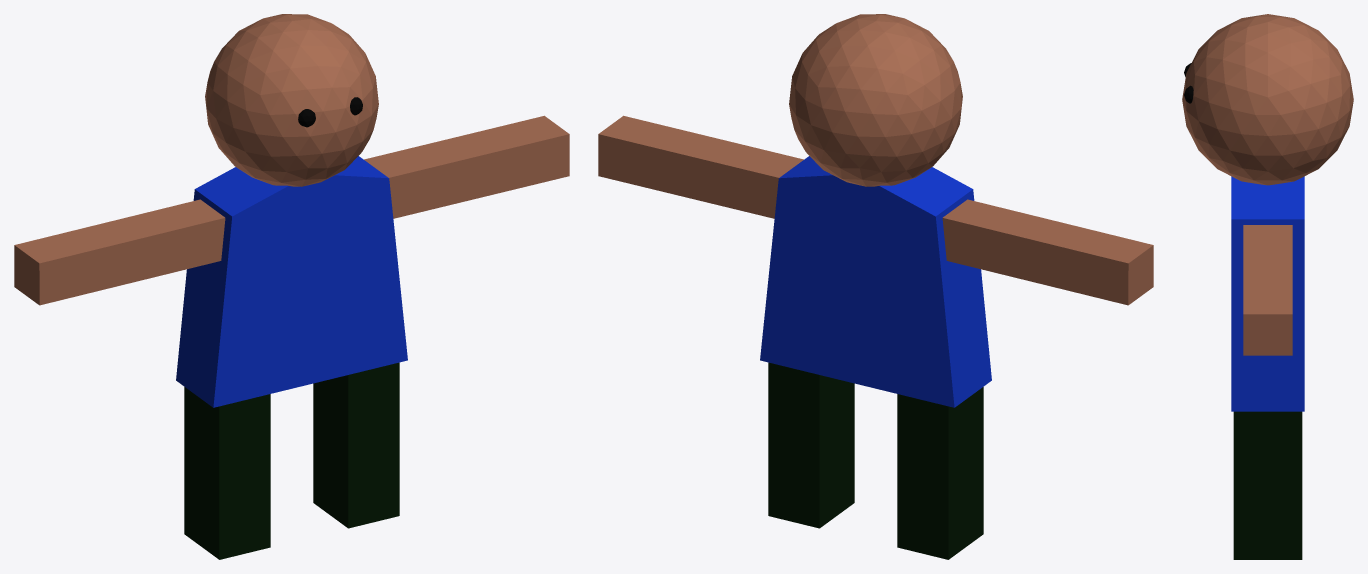
The model's file is Player.obj.
3 views of the same model, side by side, from view 1: azimuth 30°, elevation 25°; view 2: azimuth 150°, elevation 25°; view 3: azimuth 270°, elevation 25° (orthographic).
Parts seen in each view (by area): view 1: Torso_Cube, Head_Icosphere.001, RightArm_Cube.004, RightLeg_Cube.003, LeftLeg_Cube.002, RightArm.001_Cube.007; view 2: Torso_Cube, Head_Icosphere.001, RightArm_Cube.004, RightLeg_Cube.003, LeftLeg_Cube.002, RightArm.001_Cube.007; view 3: Head_Icosphere.001, Torso_Cube, LeftLeg_Cube.002, RightArm.001_Cube.007.
Part boxes in pixels (x1,y1,x2,y2): Torso_Cube: (176, 156, 407, 407); Head_Icosphere.001: (205, 14, 378, 186); RightArm_Cube.004: (14, 199, 225, 305); RightLeg_Cube.003: (184, 387, 270, 559); LeftLeg_Cube.002: (313, 362, 399, 528); RightArm.001_Cube.007: (364, 115, 569, 218); Torso_Cube: (760, 156, 991, 407); Head_Icosphere.001: (789, 14, 962, 186); RightArm_Cube.004: (942, 199, 1153, 305); RightLeg_Cube.003: (897, 387, 983, 559); LeftLeg_Cube.002: (768, 362, 854, 528); RightArm.001_Cube.007: (598, 115, 803, 218); Head_Icosphere.001: (1182, 14, 1353, 185); Torso_Cube: (1231, 176, 1304, 411); LeftLeg_Cube.002: (1233, 411, 1302, 559); RightArm.001_Cube.007: (1243, 225, 1292, 355).
Bounding box in the file's own units: 2.04 × 1.86 × 0.5838.
